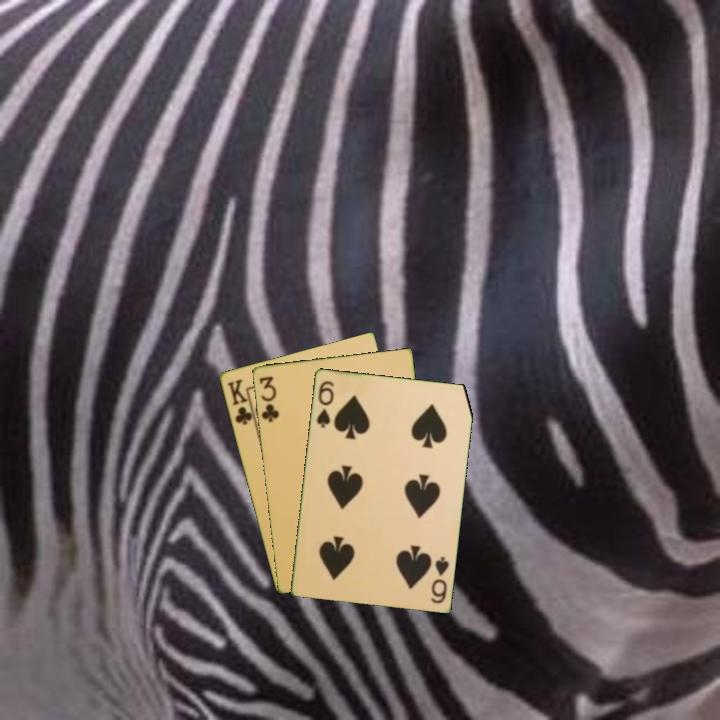3c: (255, 372, 282, 424)
6s: (427, 552, 451, 606), (313, 377, 337, 430)
Kc: (223, 375, 258, 428)
